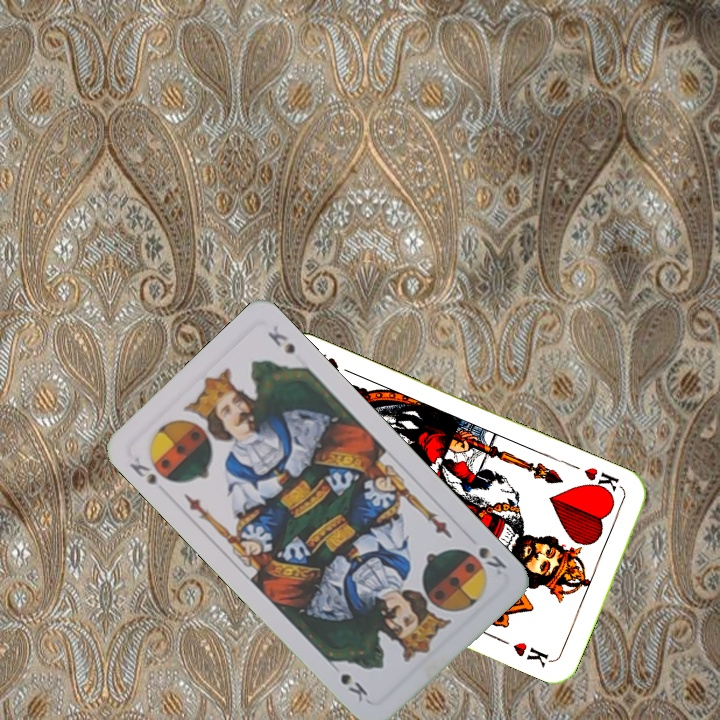HK: (580, 463, 622, 499)
SK: (125, 449, 176, 489), (460, 543, 510, 576)
